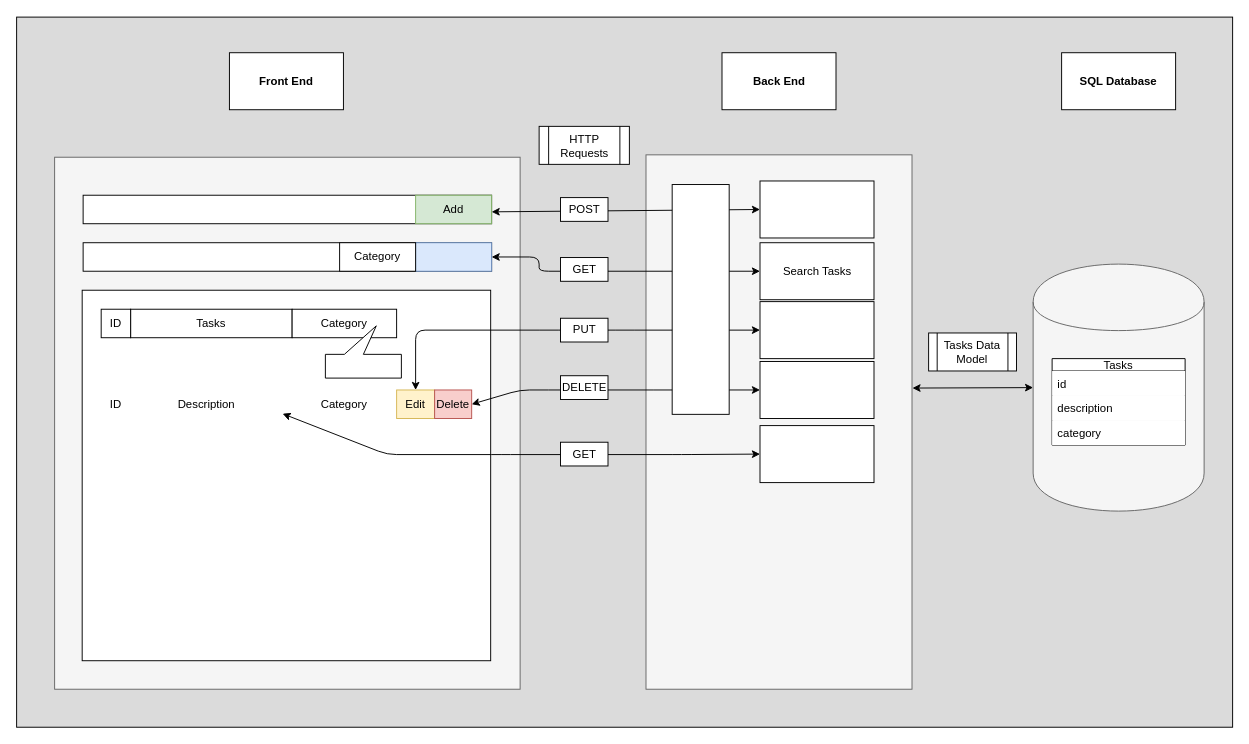
This 1249x744 diagram has some shape labels left out. Here are the shapes that lost their labels. From the top down, the centre of each, then its label:
point 816,209: Create a Task
point 453,256: Search
point 700,299: Data Validation
point 816,330: Edit a Task
point 362,351: Filter
point 816,389: Delete a Task
point 816,454: View All Tasks
